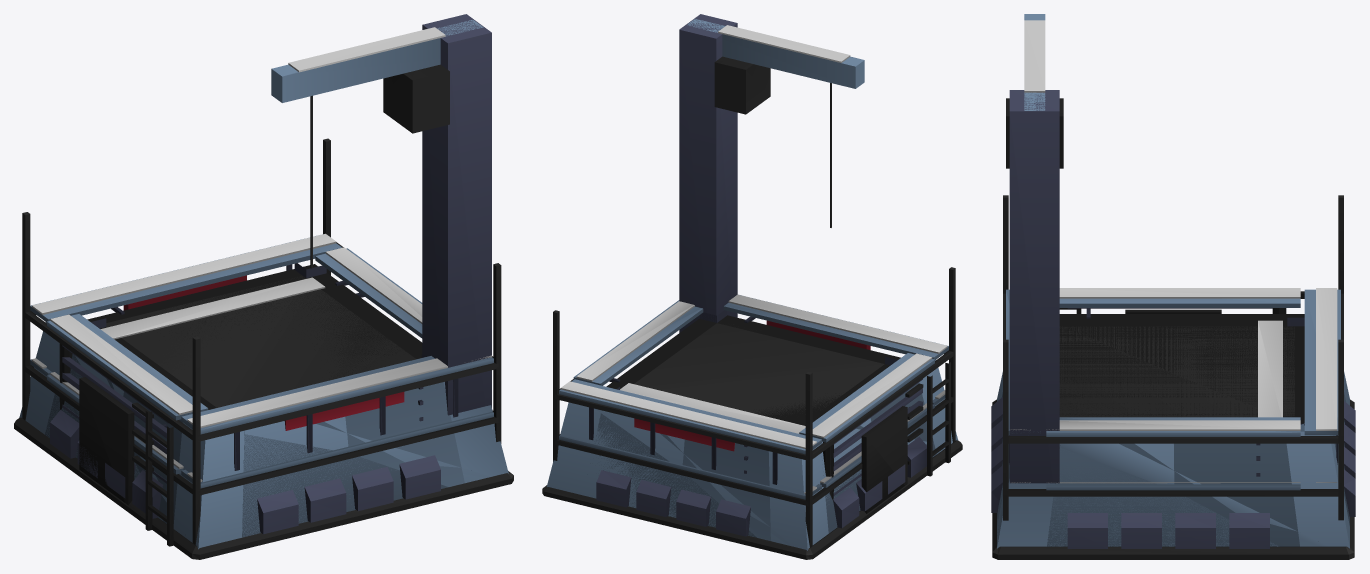
The model's file is veyran_defence_tower_scaffolding.glb.
The picture shows the model from 3 angles, left to right: view 1: azimuth 30°, elevation 25°; view 2: azimuth 150°, elevation 25°; view 3: azimuth 270°, elevation 25°; orthographic projection. The views are drawn at different scales.
Parts seen in each view (by area): view 1: body (×3); view 2: body (×2); view 3: body (×3).
Part boxes in pixels (<box>): body (×3): <box>14,14,513,559</box>; body (×2): <box>542,14,962,559</box>; body (×3): <box>991,14,1355,559</box>.
Size of the model in its own units: 3.85 by 5.07 by 3.78.
